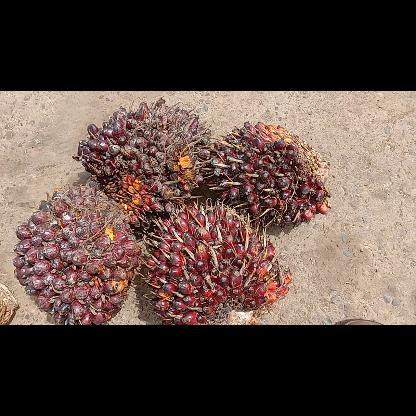Kurang masak: (136, 196, 294, 324), (72, 95, 218, 227)
TBS mentah: (11, 180, 141, 324), (203, 117, 334, 227)
